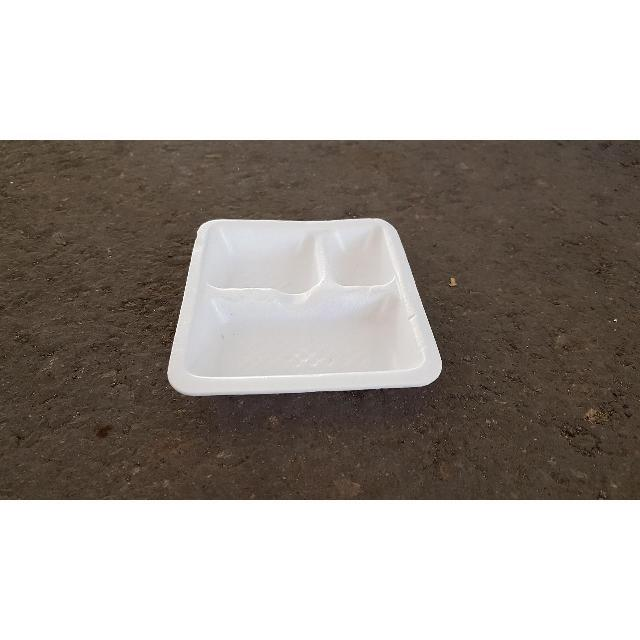Recipiente plastico: (168, 219, 441, 396)
